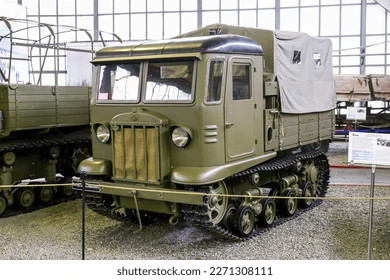tractor: (77, 23, 337, 241)
